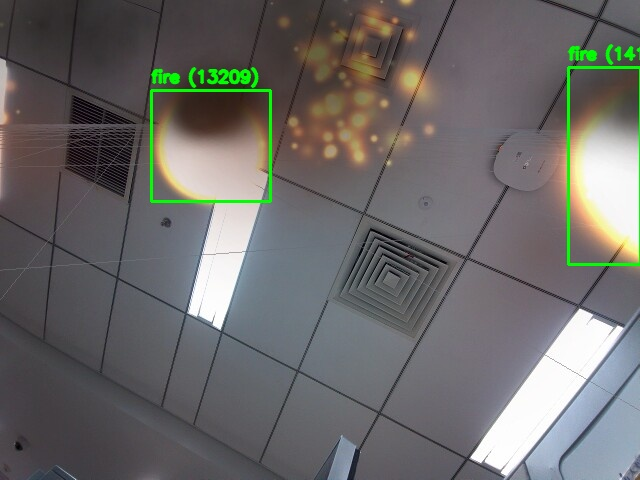fire: (568, 67, 640, 264), (151, 90, 270, 201)
